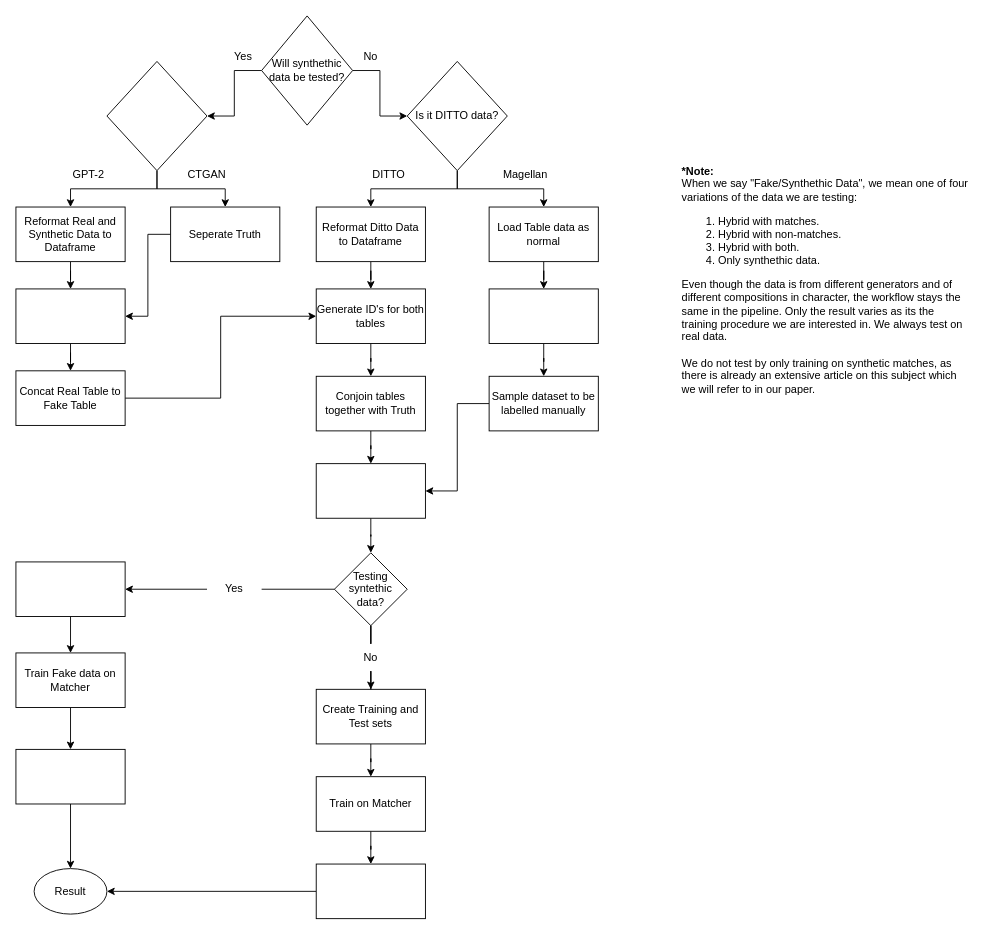
This 987x935 diagram has some shape labels left out. The shapes that lost their labels are listed below. From the top down, each one's centre as x and y in pixels, then its label:
point 156,116: CTGAN or GPT-2?
point 70,316: Get Length of Syntethic Data Table
point 543,316: Create Candidate Set with Blockers
point 370,490: Load as Table C, with pointers to Table A and B
point 70,589: Create Training and Test sets by cutoff on Length of Fake Data
point 70,776: Test Matcher on Real Data
point 370,891: Test Matcher
